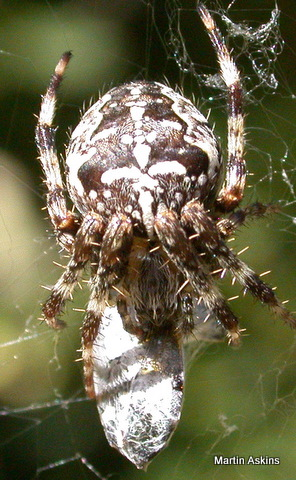spider: (12, 10, 295, 378)
